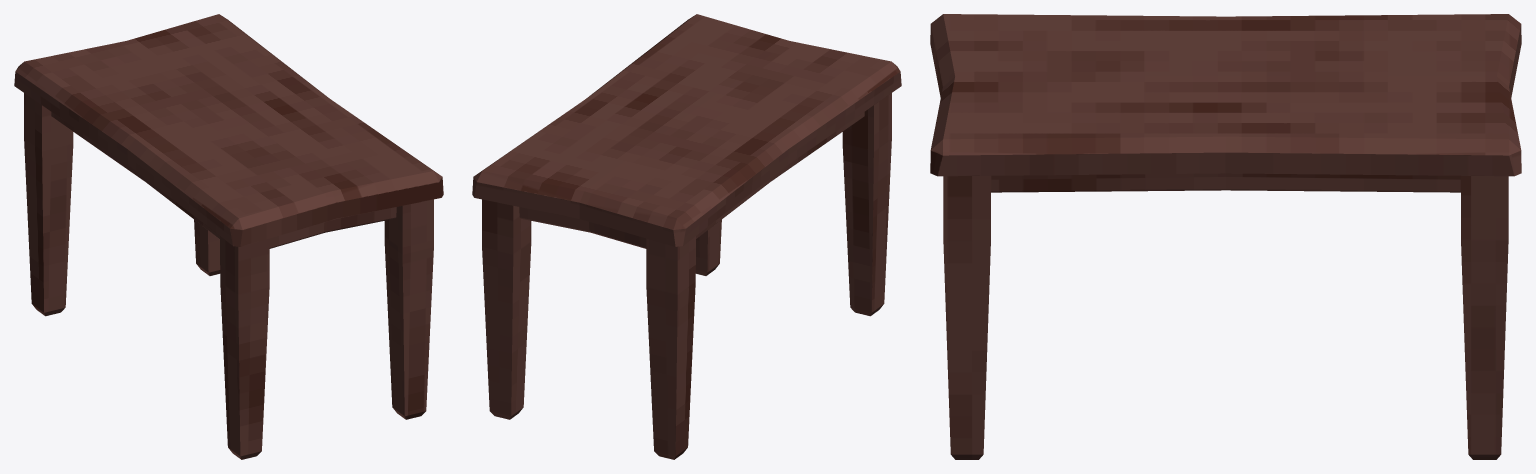
File: table.fbx
3 renders of one model, left to right at view 1: azimuth 30°, elevation 25°; view 2: azimuth 150°, elevation 25°; view 3: azimuth 270°, elevation 25°, orthographic. The views are drawn at different scales.
Visible parts, largest first — view 1: table; view 2: table; view 3: table.
Boxes of the visible parts, x1,y1,x2,y2 form: table: (14,14,443,459); table: (472,14,901,459); table: (930,14,1521,459).
Size of the model in its own units: 200 by 222 by 365.
Materials: 1 (1 with a texture image).
